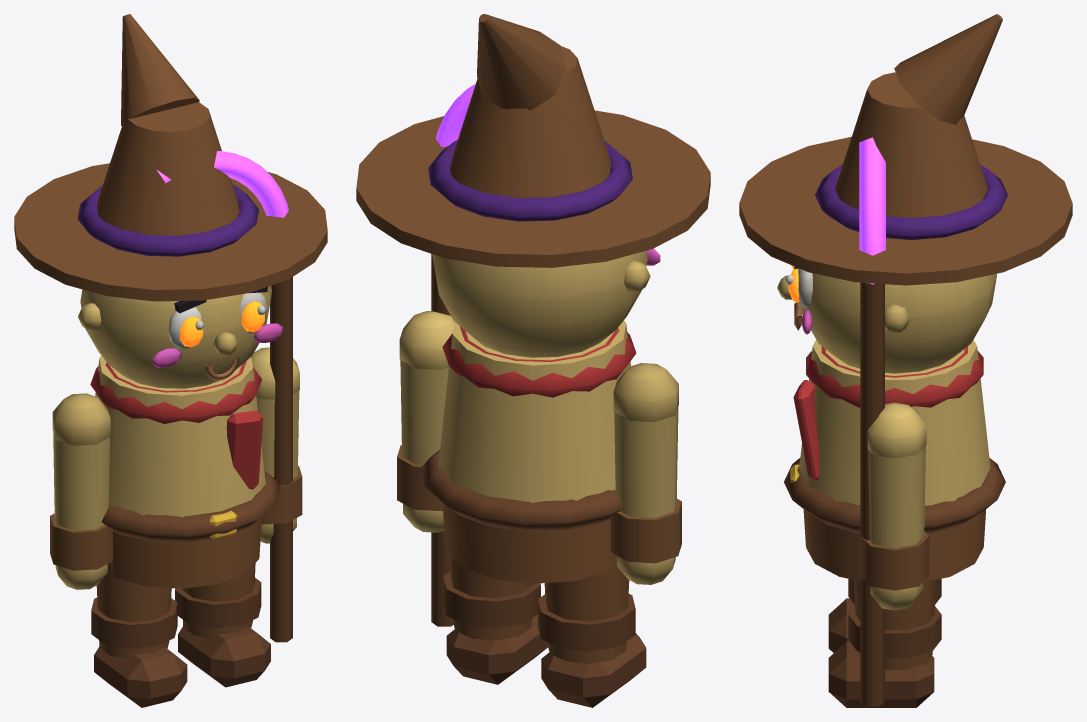
File: hero_hollow.glb
3 renders of one model, left to right at view 1: azimuth 30°, elevation 25°; view 2: azimuth 150°, elevation 25°; view 3: azimuth 270°, elevation 25°, orthographic. The views are drawn at different scales.
Parts seen in each view (by area): view 1: body_t0_palette, armr_t0_palette, arml_t0_palette, legl_t0_palette, legr_t0_palette, armr_t0_shadow_glow, body_t0_fire; view 2: body_t0_palette, arml_t0_palette, legl_t0_palette, armr_t0_palette, legr_t0_palette, armr_t0_shadow_glow; view 3: body_t0_palette, armr_t0_palette, legr_t0_palette, armr_t0_shadow_glow, legl_t0_palette.
Boxes of the visible parts, x1,y1,x2,y2 form: body_t0_palette: [14, 14, 327, 588]; armr_t0_palette: [251, 277, 302, 642]; arml_t0_palette: [50, 393, 112, 589]; legl_t0_palette: [91, 562, 187, 707]; legr_t0_palette: [175, 563, 270, 687]; armr_t0_shadow_glow: [156, 151, 288, 217]; body_t0_fire: [180, 301, 264, 347]; body_t0_palette: [356, 14, 710, 583]; arml_t0_palette: [610, 363, 681, 584]; legl_t0_palette: [538, 553, 646, 707]; armr_t0_palette: [397, 254, 454, 626]; legr_t0_palette: [443, 555, 547, 684]; armr_t0_shadow_glow: [436, 83, 475, 146]; body_t0_palette: [739, 14, 1072, 582]; armr_t0_palette: [860, 282, 929, 706]; legr_t0_palette: [828, 580, 941, 707]; armr_t0_shadow_glow: [859, 137, 885, 284]; legl_t0_palette: [828, 578, 941, 652].
Bounding box in the file's own units: 0.3 × 0.6592 × 0.3.
